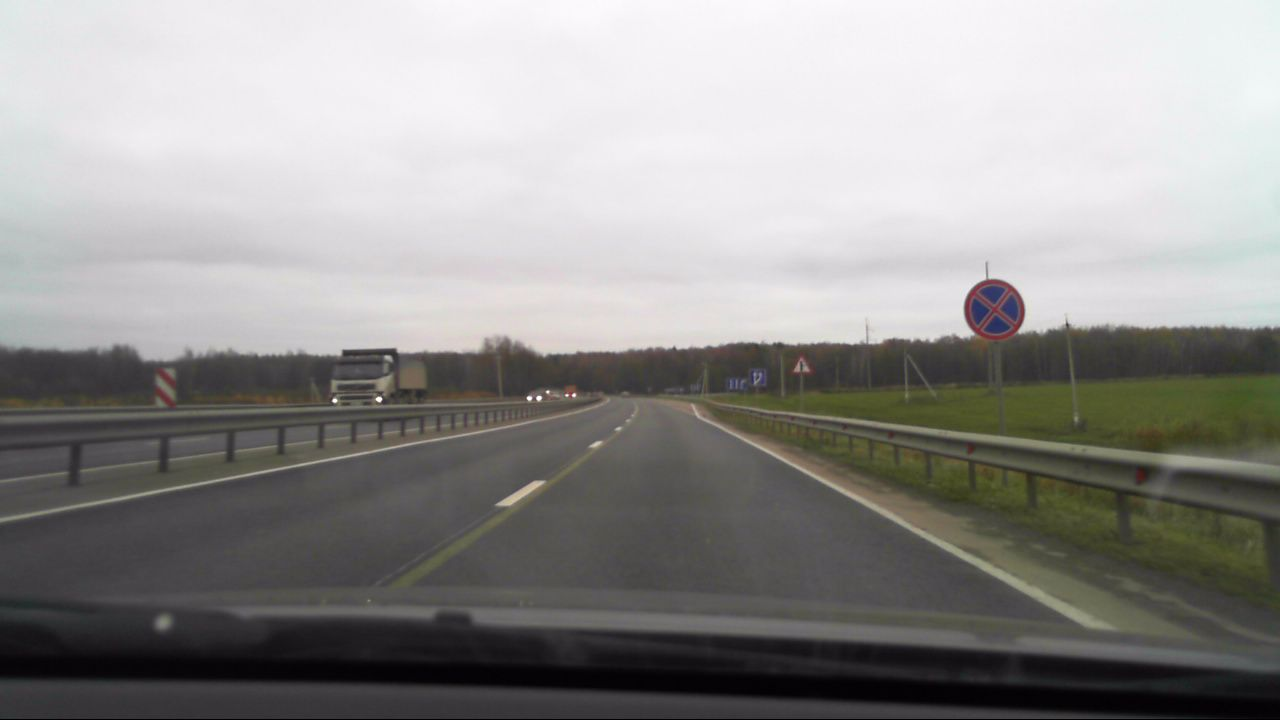No Parking: (963, 278, 1027, 341)
